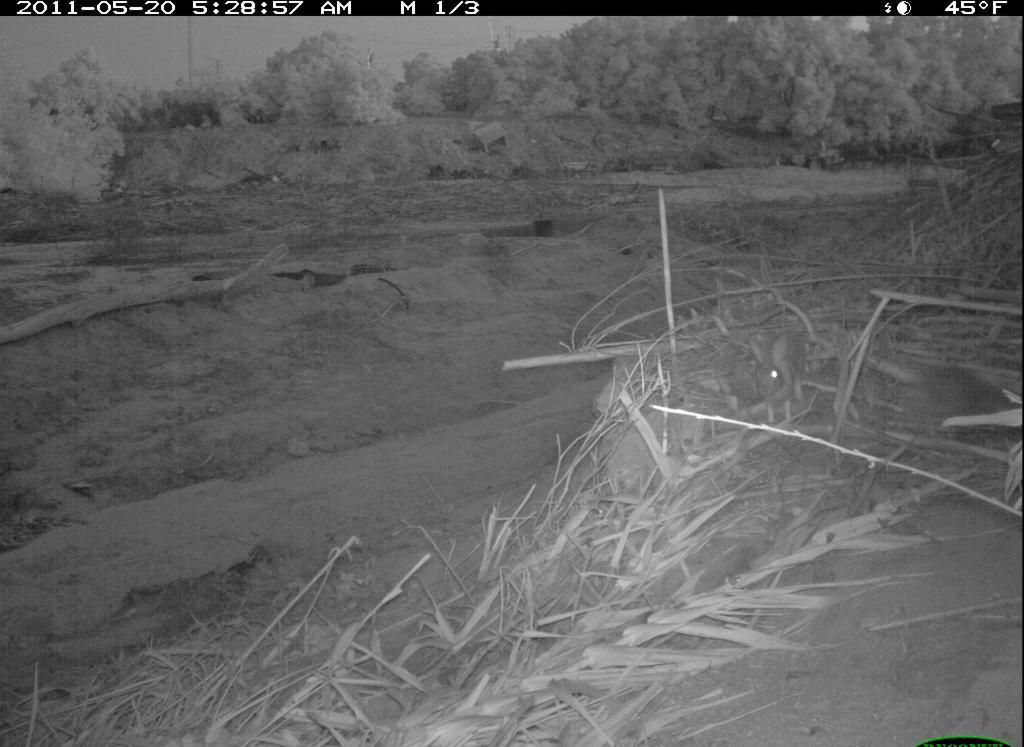rabbit: (738, 316, 821, 439)
